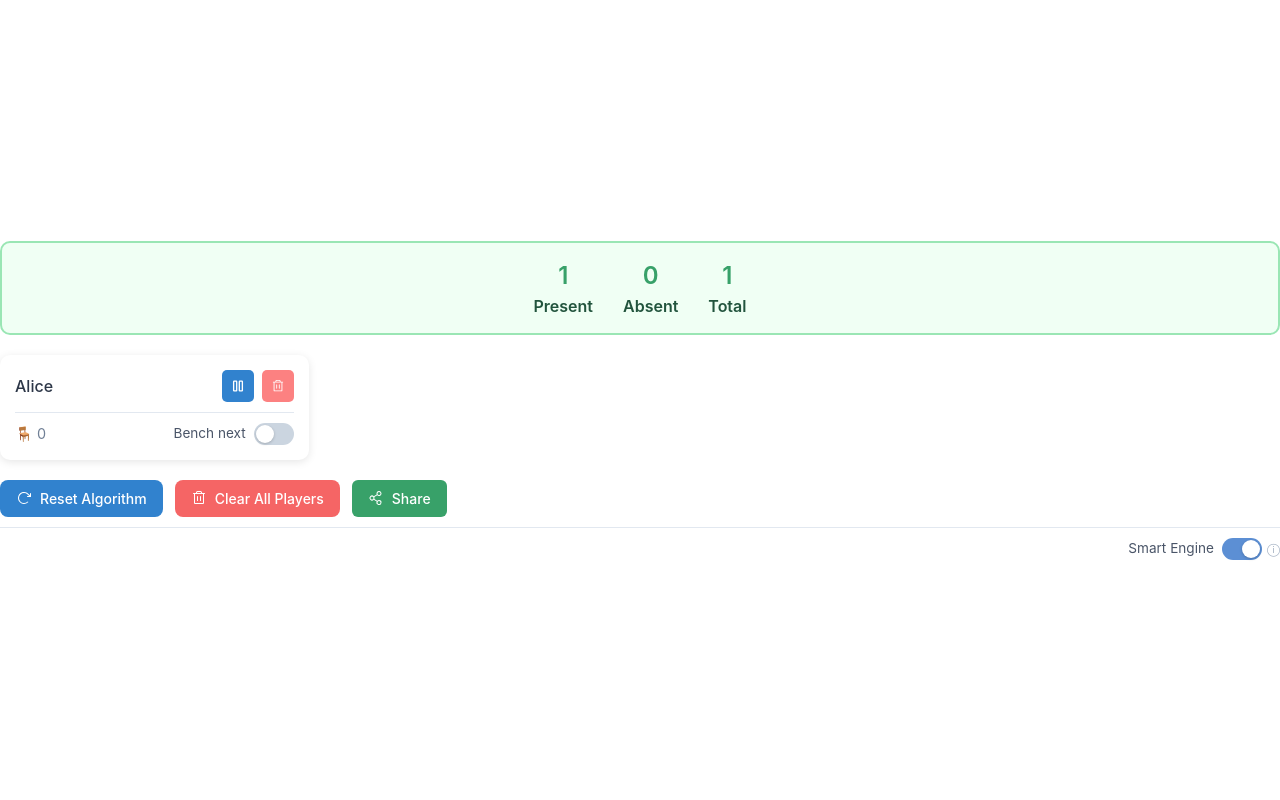
Test case: PlayerList Component › Player name click to edit › opens PlayerEditModal when player name is clicked with smart engine enabled
The image size is (1280, 800).
Step 1. Click the text with test id "player-name-edit-p" → (34, 386), box [15,376,53,396]
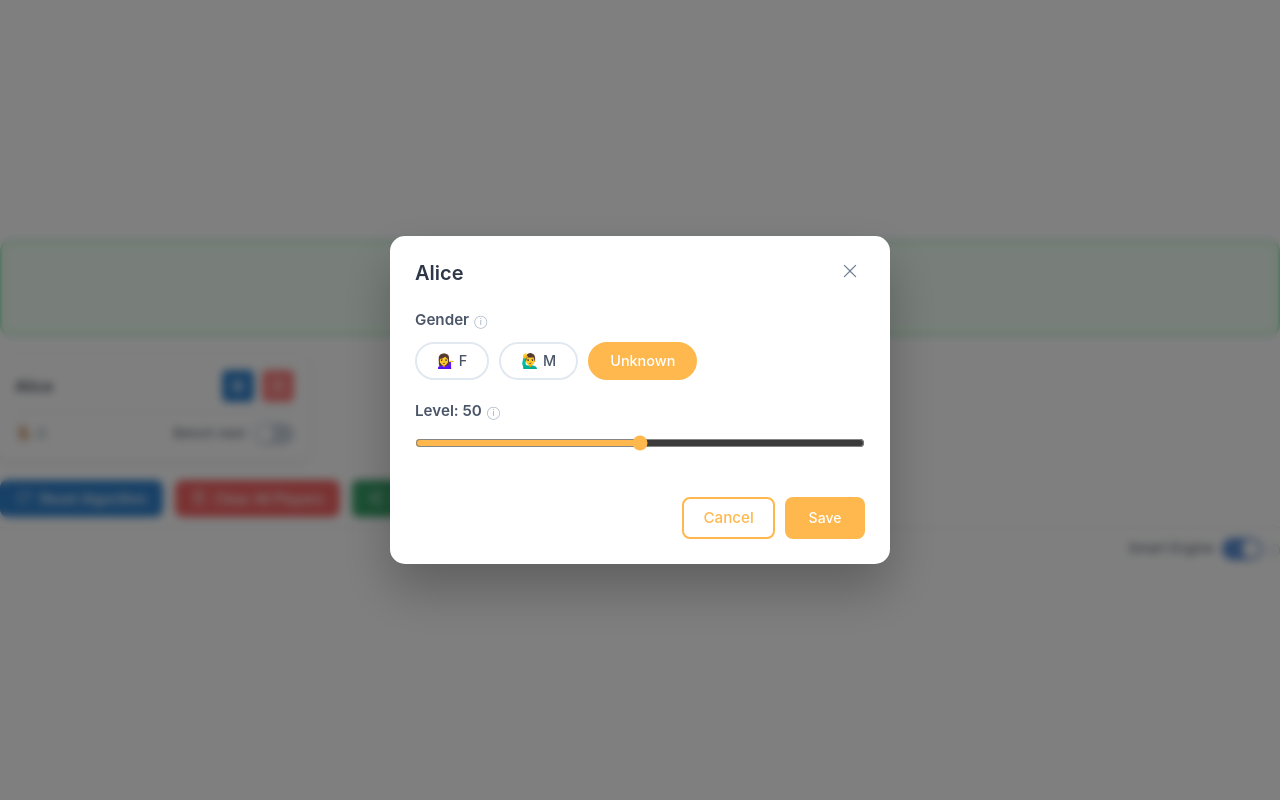
Expected: the element with test id "player-edit-modal" is shown
